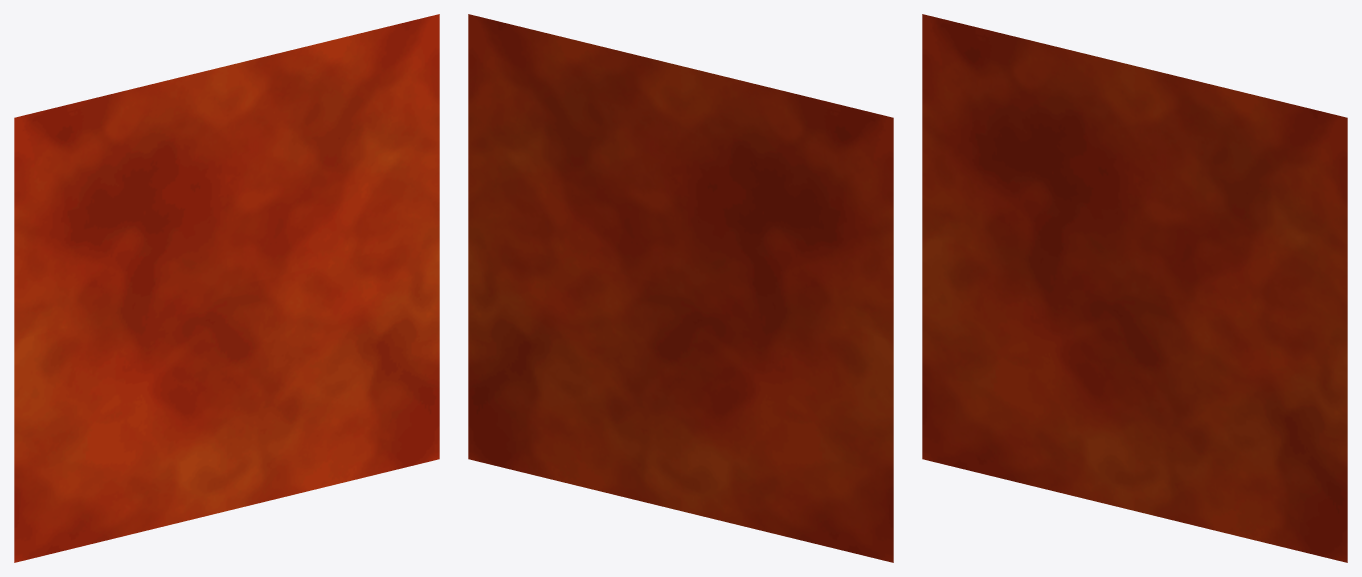
3 views of the same model, side by side, from view 1: azimuth 30°, elevation 25°; view 2: azimuth 150°, elevation 25°; view 3: azimuth 330°, elevation 25° (orthographic).
Parts seen in each view (by area): view 1: water.model-Mesh[0]; view 2: water.model-Mesh[0]; view 3: water.model-Mesh[0].
Part boxes in pixels (x1=…): water.model-Mesh[0]: x1=14, y1=14, x2=439, y2=562; water.model-Mesh[0]: x1=468, y1=14, x2=893, y2=562; water.model-Mesh[0]: x1=922, y1=14, x2=1347, y2=562.
Bounding box in the file's own units: 10 × 10 × 0.
Materials: 1 (1 with a texture image).
